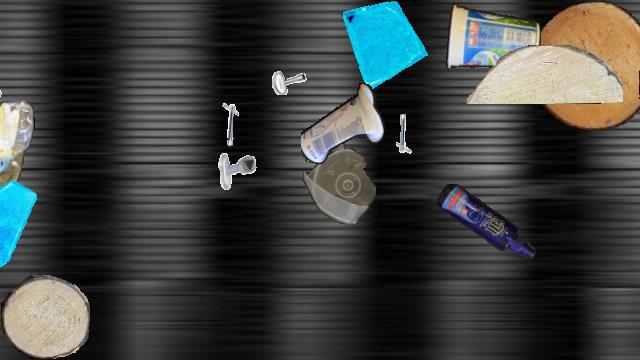glass: (341, 1, 433, 93), (0, 177, 38, 267)
metal: (209, 101, 263, 155), (260, 43, 312, 95), (373, 106, 423, 156), (216, 148, 258, 190), (0, 51, 15, 101)
plastic: (437, 184, 535, 258), (301, 81, 385, 167), (444, 1, 540, 71), (302, 135, 376, 223), (0, 101, 36, 247)
wood: (531, 1, 640, 129), (466, 45, 622, 103), (1, 275, 89, 359), (639, 20, 640, 142)
